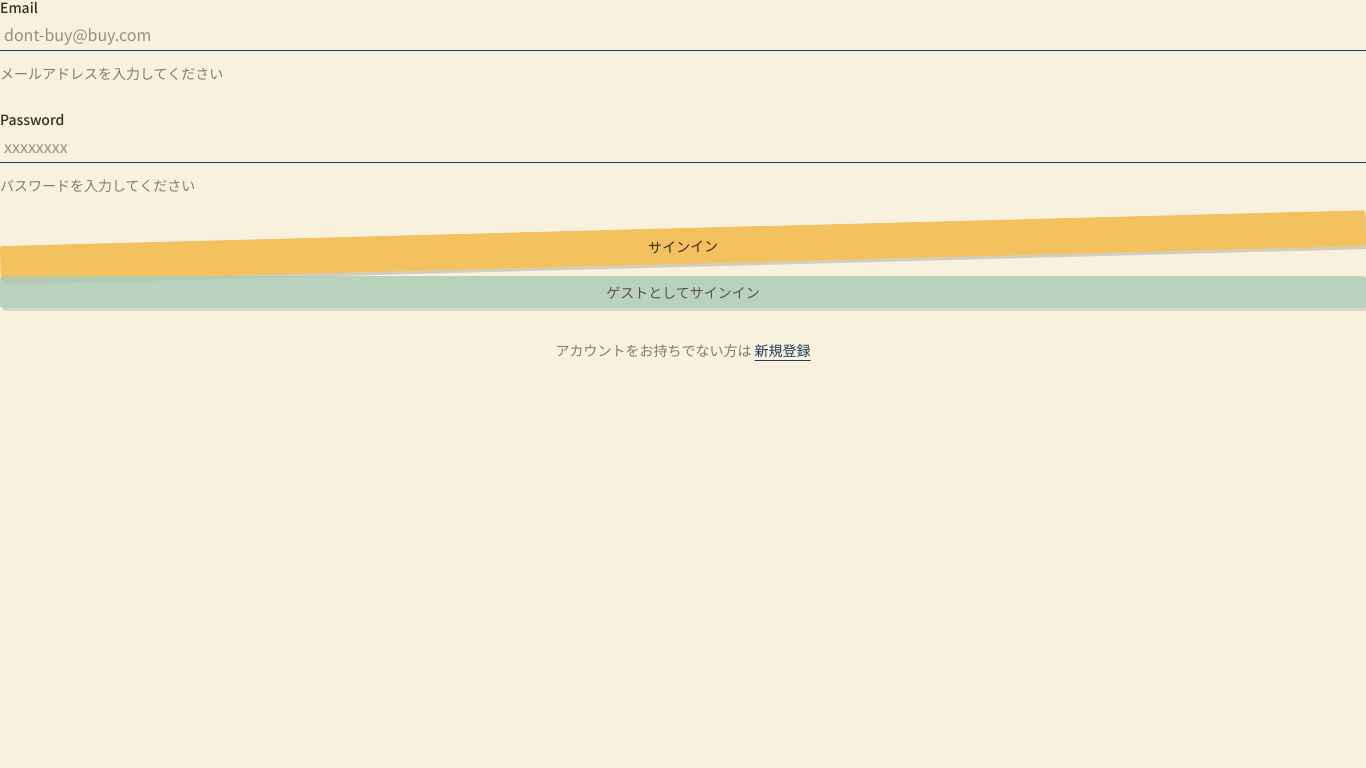
Test: 通常サインイン › エラー時にトースト通知が表示される
Type "test@example.com" into the field labelled "Email" at (683, 34), box [0, 18, 1365, 50]
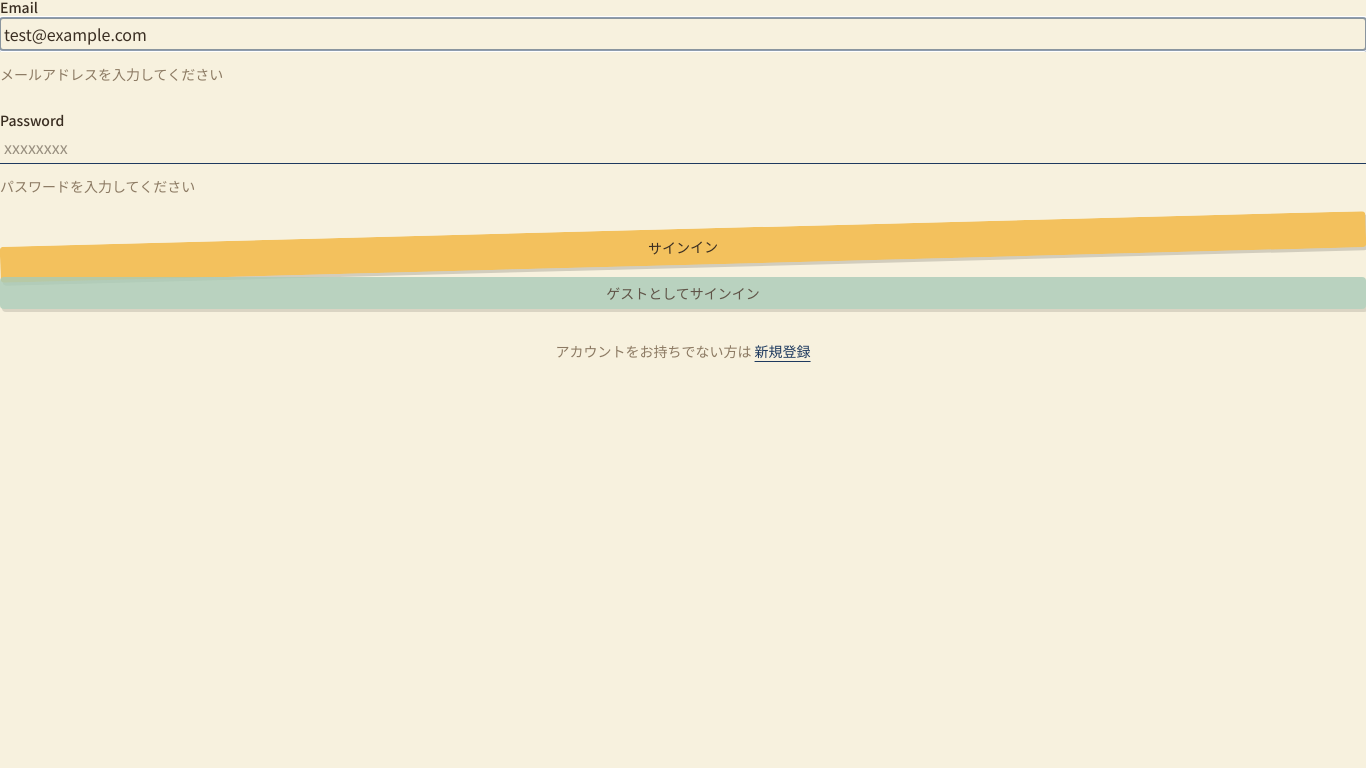
Type "wrongpass" into the password field labelled "Password" at (683, 147), box [0, 131, 1365, 163]
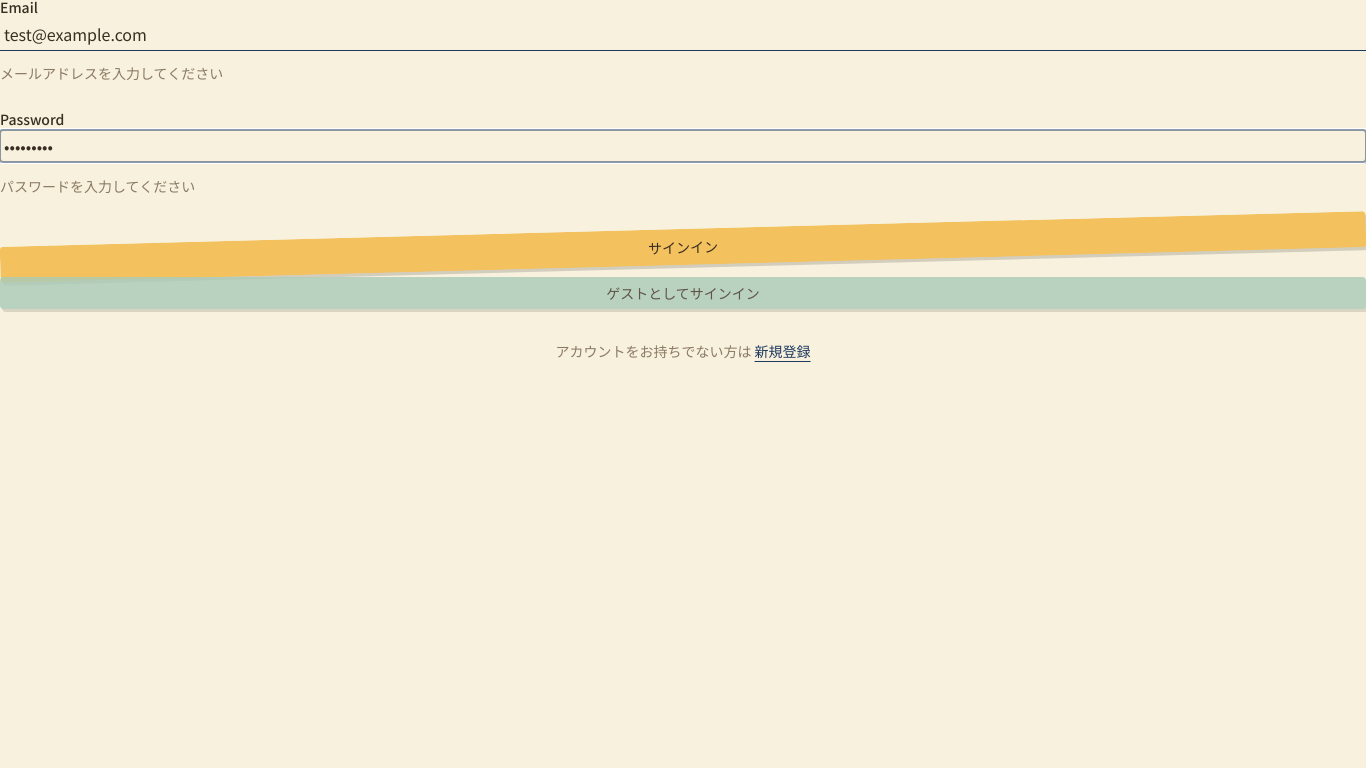
Click the button "サインイン" at (683, 247), box [0, 211, 1365, 283]
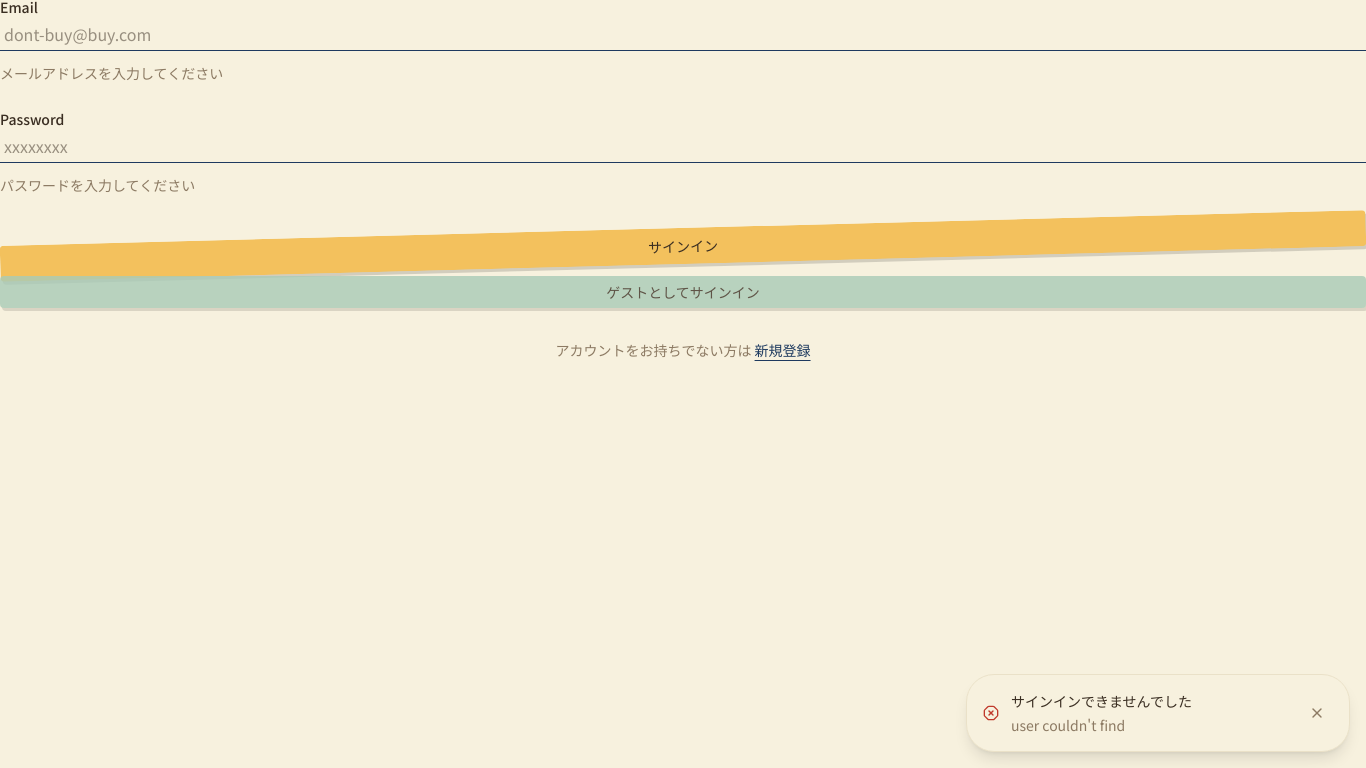
Now the heading "サインインできませんでした" is shown, box [1011, 691, 1192, 711]
